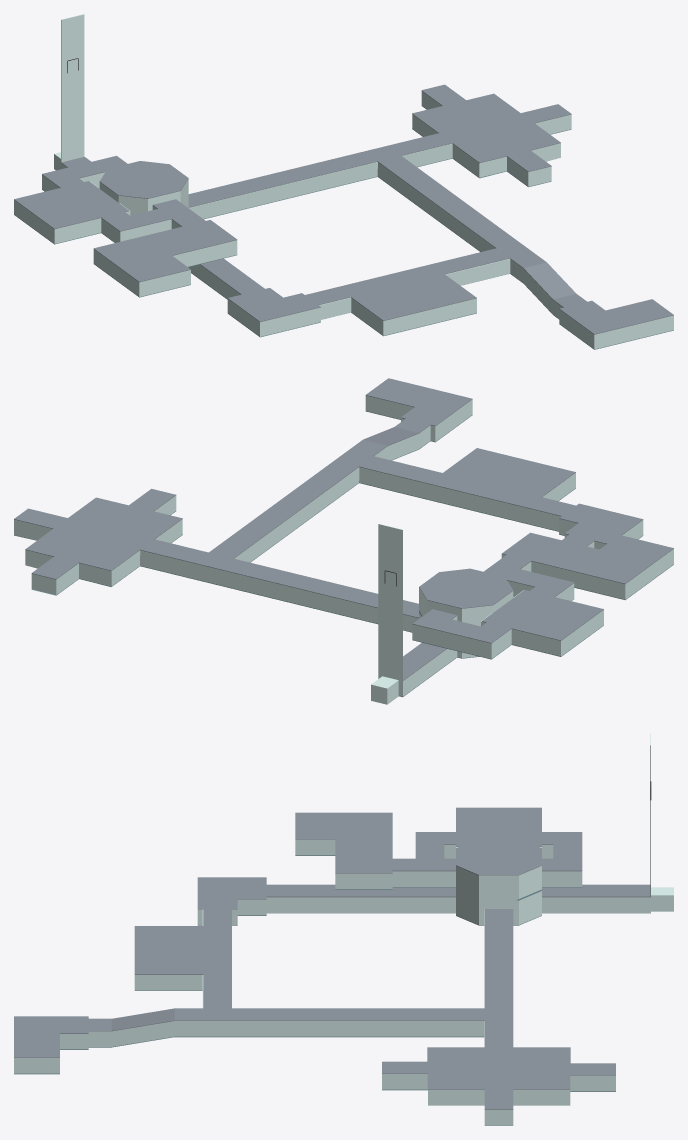
The model's file is map 2.fbx.
3 views of the same model, one above another, from view 1: azimuth 30°, elevation 25°; view 2: azimuth 150°, elevation 25°; view 3: azimuth 270°, elevation 25° (orthographic). The views are drawn at different scales.
Parts seen in each view (by area): view 1: Cealing.004, Walls, Cealing.003, Cealing.001, Floor.001; view 2: Cealing.004, Walls, Cealing.003, Cealing.001, Floor.001, Cealing.002, Elevator; view 3: Cealing.004, Walls, Cealing.003, Cealing.001, Floor.001, Cealing.002.
Part boxes in pixels (x1=…): Cealing.004: x1=188, y1=84, x2=673, y2=334; Walls: x1=14, y1=14, x2=673, y2=349; Cealing.003: x1=14, y1=155, x2=237, y2=282; Cealing.001: x1=99, y1=161, x2=188, y2=198; Floor.001: x1=191, y1=106, x2=673, y2=349; Cealing.004: x1=14, y1=378, x2=643, y2=618; Walls: x1=14, y1=395, x2=673, y2=696; Cealing.003: x1=412, y1=532, x2=673, y2=643; Cealing.001: x1=419, y1=568, x2=513, y2=608; Floor.001: x1=14, y1=411, x2=643, y2=697; Cealing.002: x1=403, y1=642, x2=446, y2=680; Elevator: x1=371, y1=676, x2=398, y2=704; Cealing.004: x1=14, y1=877, x2=615, y2=1109; Walls: x1=14, y1=733, x2=650, y2=1124; Cealing.003: x1=295, y1=807, x2=582, y2=873; Cealing.001: x1=456, y1=838, x2=541, y2=875; Floor.001: x1=14, y1=913, x2=650, y2=1125; Cealing.002: x1=542, y1=884, x2=650, y2=897.
Size of the model in its own units: 11348 by 3430 by 11500.
